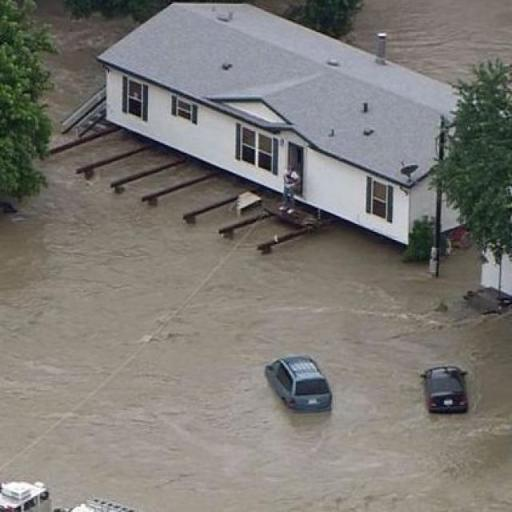flood: (0, 130, 512, 512), (35, 0, 138, 136), (350, 0, 512, 82), (241, 0, 299, 14)
house: (98, 2, 452, 240)
